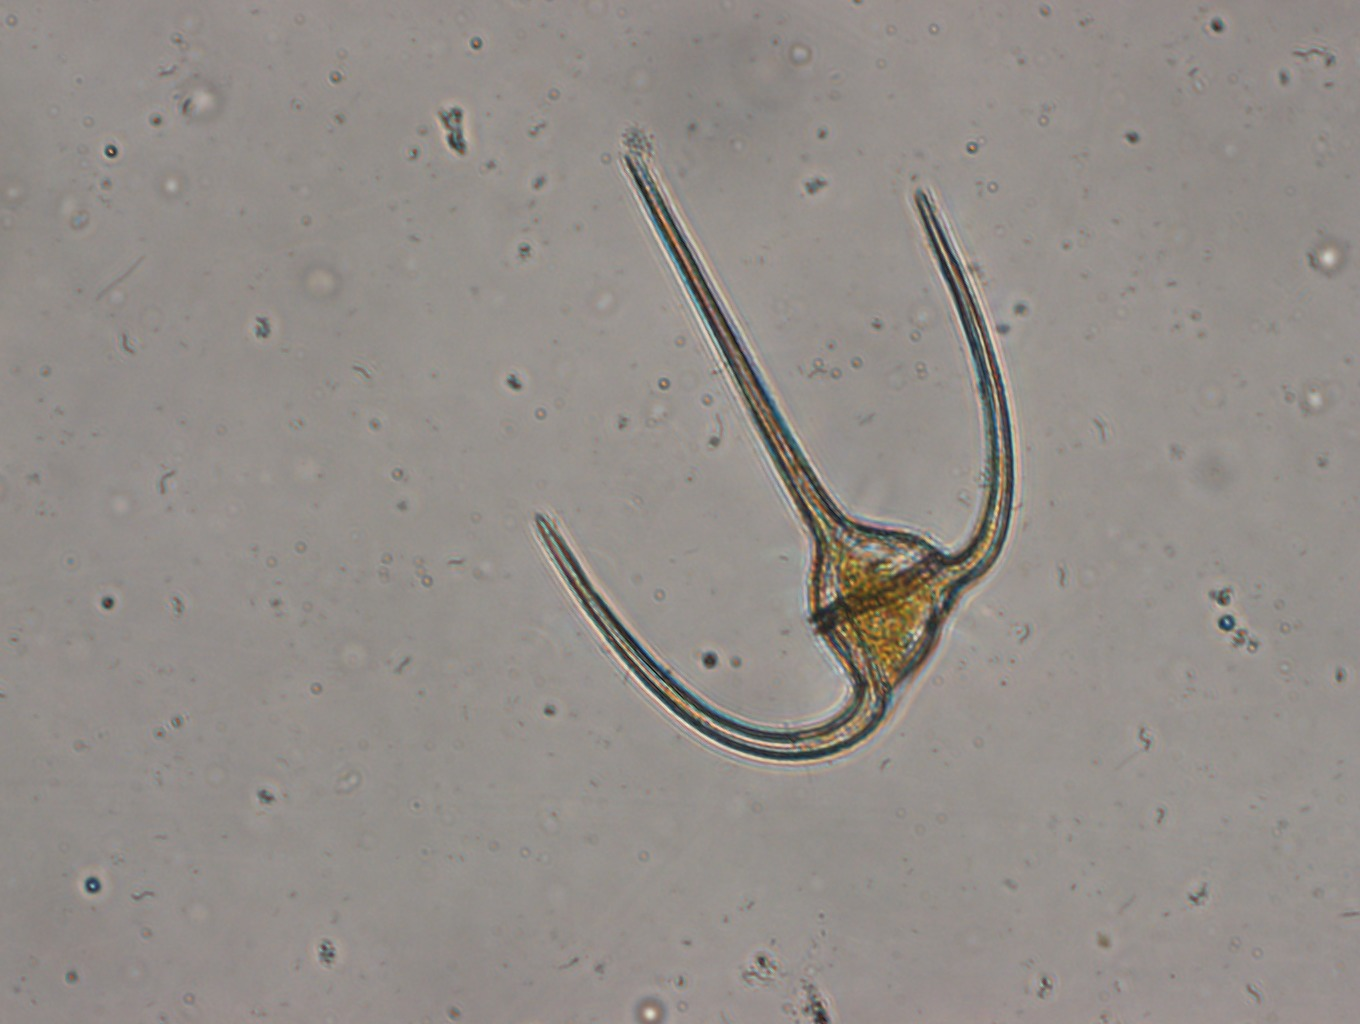ceratium trichoceros: (519, 137, 1029, 773)
